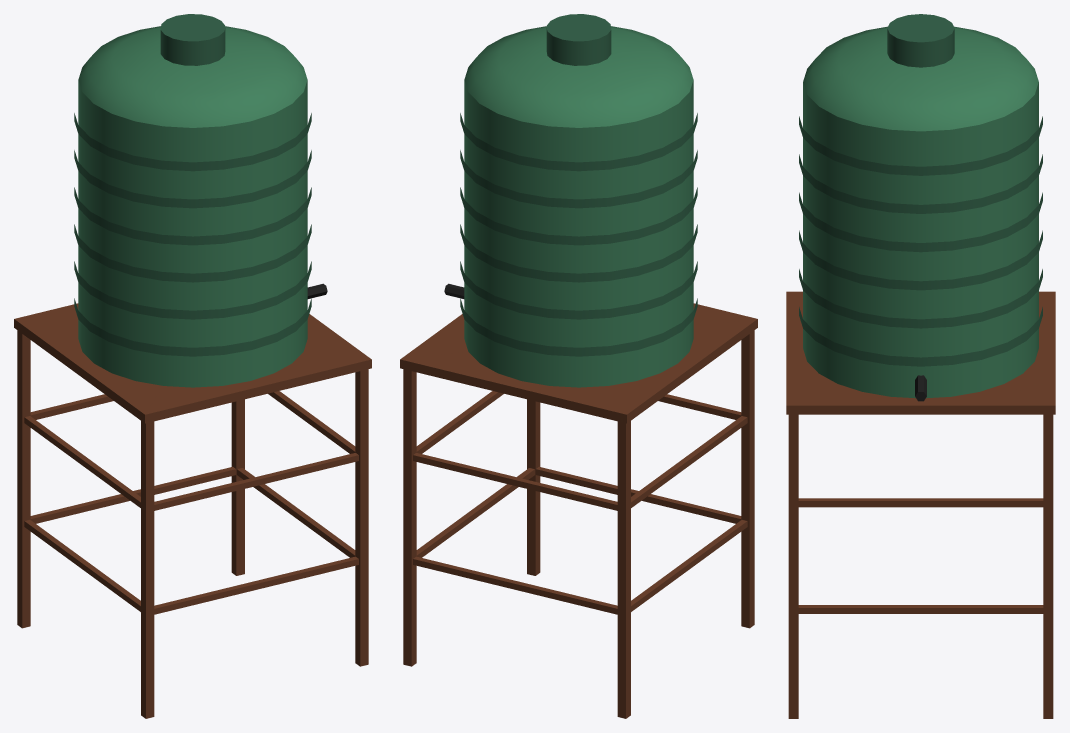
File: water_tank_stand.glb
3 renders of one model, left to right at view 1: azimuth 30°, elevation 25°; view 2: azimuth 150°, elevation 25°; view 3: azimuth 270°, elevation 25°, orthographic. The views are drawn at different scales.
Visible parts, largest first — view 1: water_tank_stand; view 2: water_tank_stand; view 3: water_tank_stand.
Part boxes in pixels (x1=…): water_tank_stand: x1=14, y1=14, x2=371, y2=718; water_tank_stand: x1=400, y1=14, x2=757, y2=718; water_tank_stand: x1=786, y1=14, x2=1055, y2=718.
Bounding box in the file's own units: 1.73 × 4.16 × 1.6.
1 material, 1 textured.
